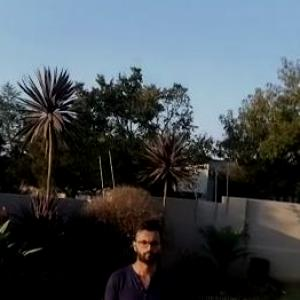follow: (99, 215, 182, 299)
